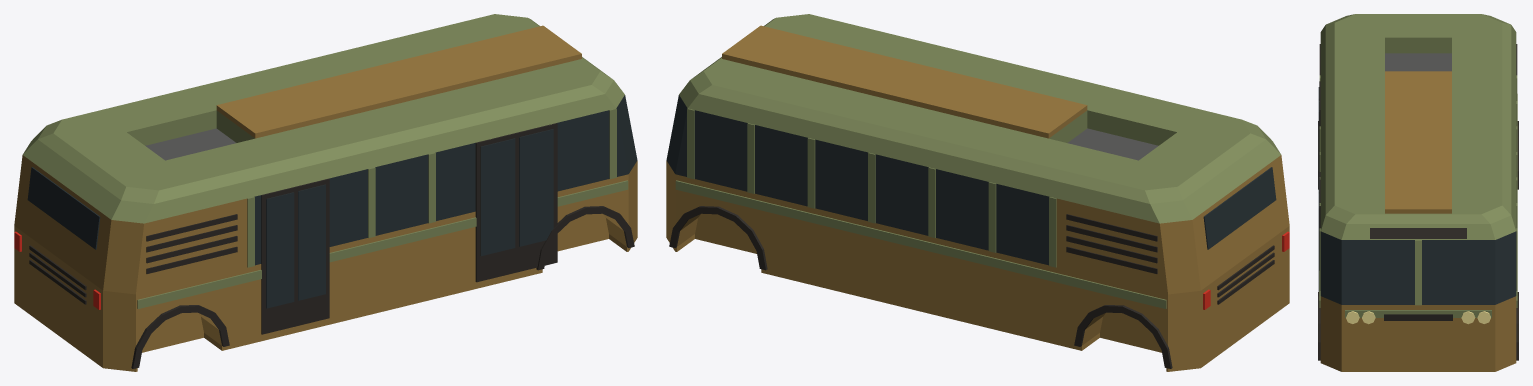
File: base_bus.glb
3 renders of one model, left to right at view 1: azimuth 30°, elevation 25°; view 2: azimuth 150°, elevation 25°; view 3: azimuth 270°, elevation 25°, orthographic. The views are drawn at different scales.
Visible parts, largest first — view 1: base_bus; view 2: base_bus; view 3: base_bus.
Part boxes in pixels (x1,y1,x2,y2): base_bus: [14, 14, 637, 371]; base_bus: [666, 14, 1289, 371]; base_bus: [1318, 14, 1518, 371].
Bounding box in the file's own units: 7.79 × 2.39 × 2.9.
